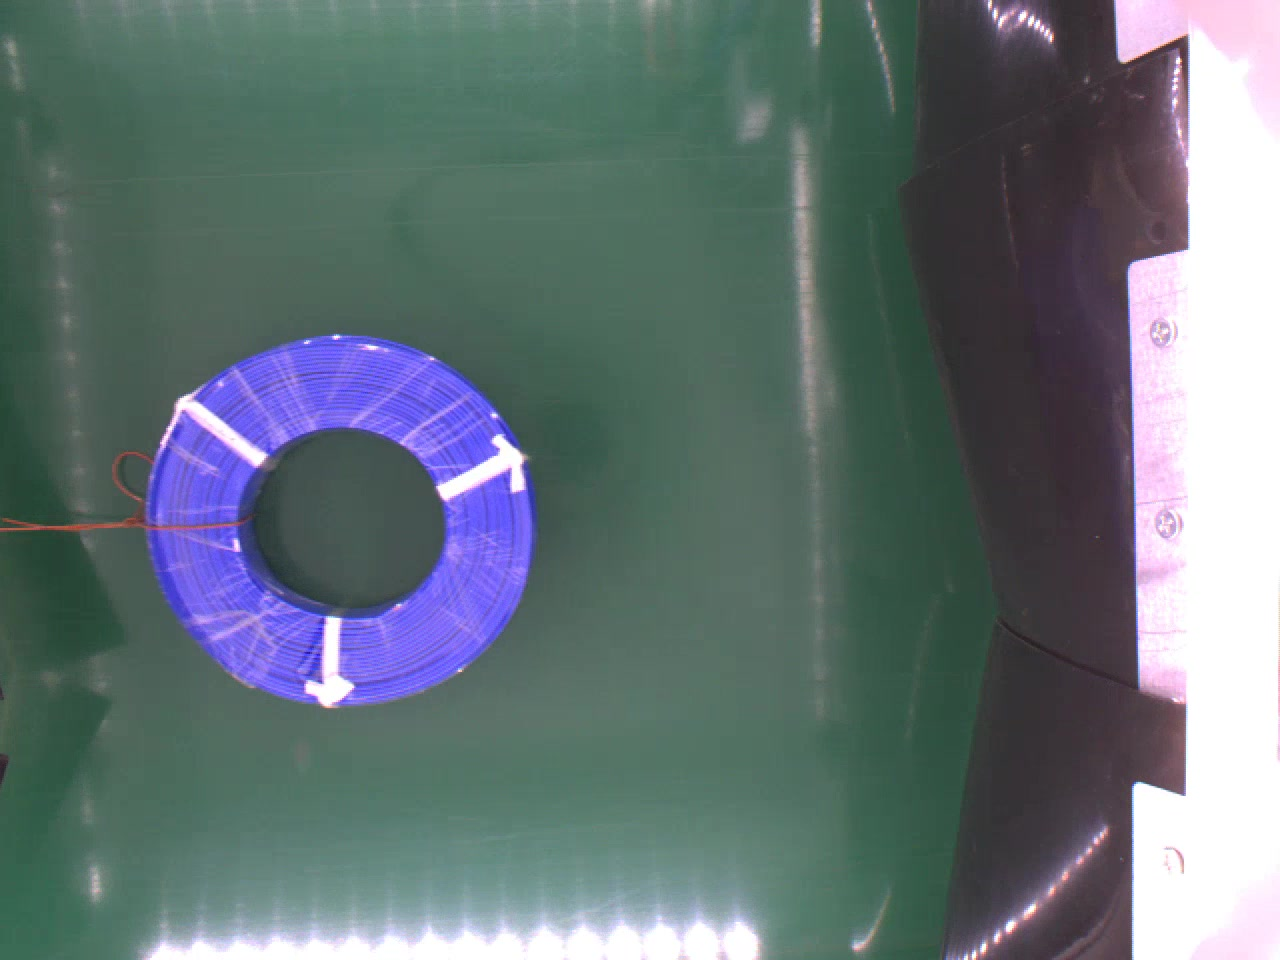blue: (138, 328, 533, 711)
